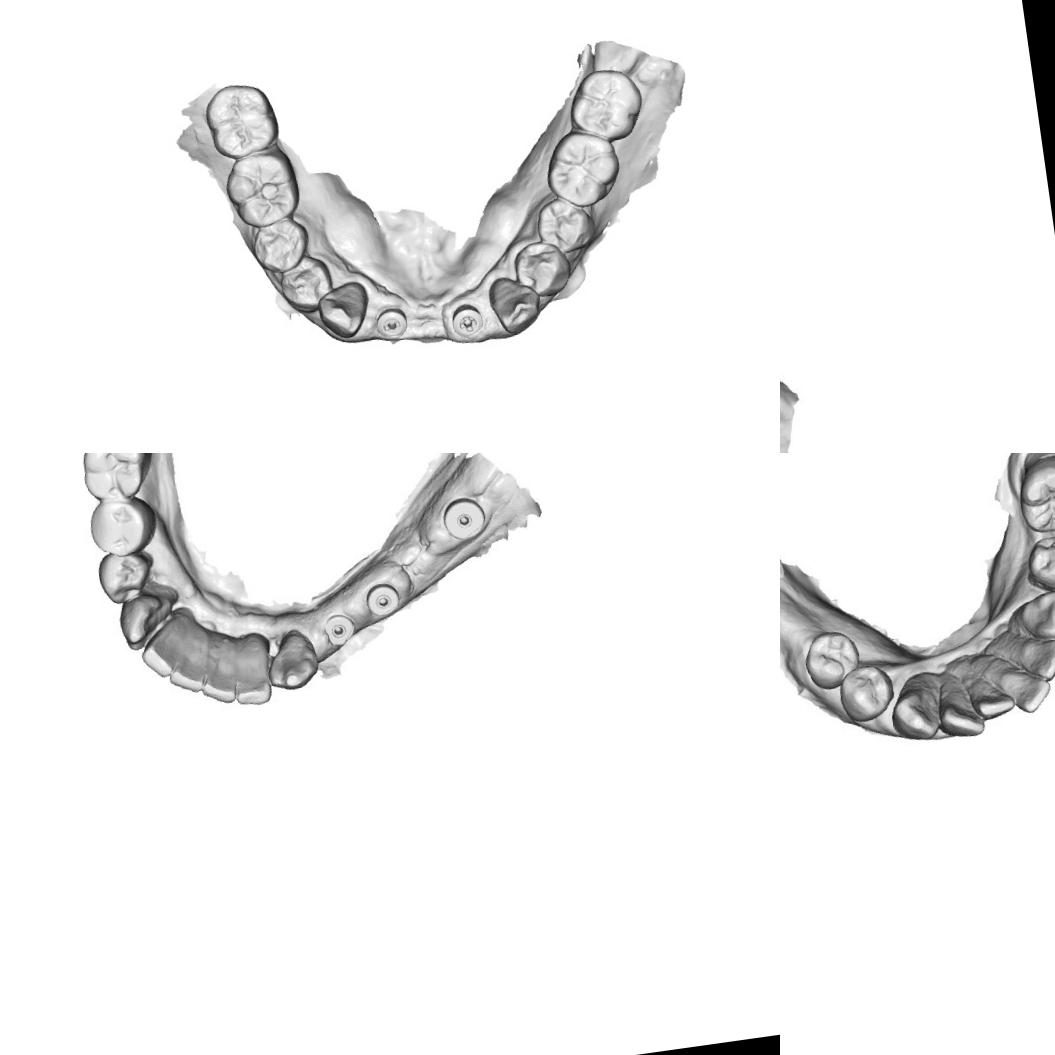canine: (114, 586, 182, 653), (313, 276, 379, 342), (483, 270, 547, 338), (262, 627, 322, 694), (892, 669, 944, 740), (1018, 585, 1055, 642)
implant: (439, 490, 493, 550), (364, 570, 405, 622), (321, 606, 358, 650)
implant_minus: (370, 300, 413, 347)
implant_plus: (446, 300, 490, 346)
incisor: (134, 618, 194, 682), (992, 652, 1048, 720), (162, 631, 214, 697), (191, 638, 241, 706), (933, 674, 983, 742), (223, 649, 275, 710), (967, 662, 1016, 725), (1009, 628, 1055, 686)
molar: (198, 76, 287, 164), (540, 124, 627, 213), (218, 146, 306, 230), (564, 64, 648, 147), (77, 453, 155, 505), (1011, 453, 1055, 542)
premolar: (84, 492, 161, 560), (530, 188, 602, 260), (270, 252, 338, 320), (508, 236, 576, 303), (94, 544, 158, 610), (246, 216, 315, 276), (836, 664, 894, 723), (802, 630, 858, 690), (1028, 535, 1055, 594)
